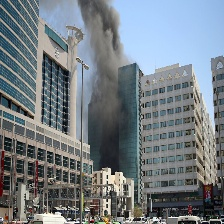smoke: (74, 2, 127, 141)
